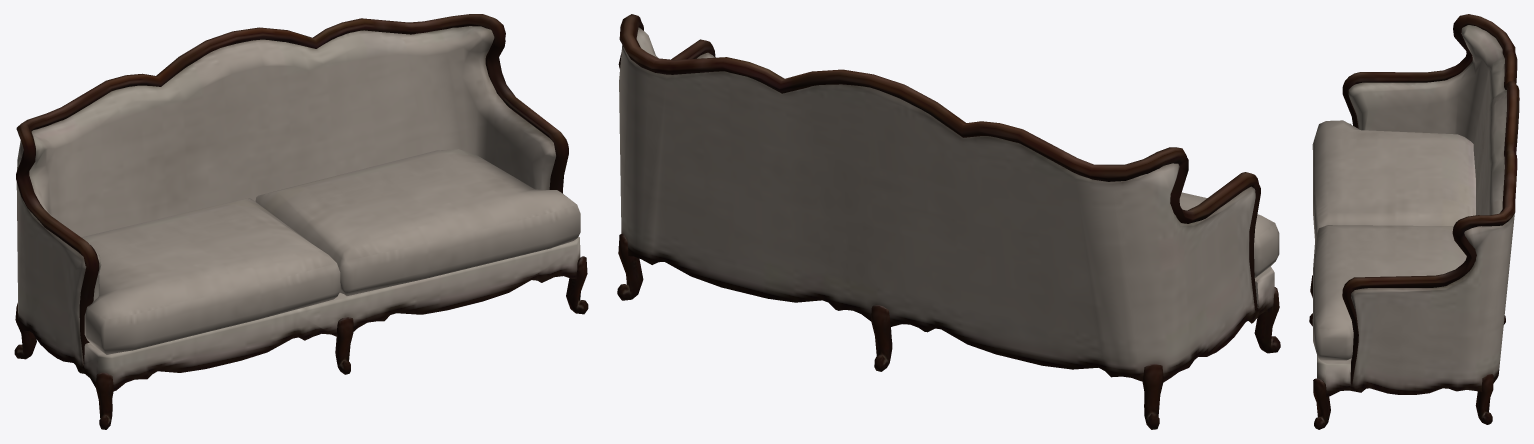
Rendered from sofa_01.glb.
3 renders of one model, left to right at view 1: azimuth 30°, elevation 25°; view 2: azimuth 150°, elevation 25°; view 3: azimuth 270°, elevation 25°, orthographic. The views are drawn at different scales.
Parts seen in each view (by area): view 1: Sofa_01; view 2: Sofa_01; view 3: Sofa_01.
Boxes of the visible parts, left/top/right/bottom form: Sofa_01: left=14, top=14, right=588, bottom=429; Sofa_01: left=617, top=14, right=1280, bottom=429; Sofa_01: left=1309, top=14, right=1519, bottom=429.
Size of the model in its own units: 1.57 by 0.7953 by 0.658.
Materials: 1 (1 with a texture image).
